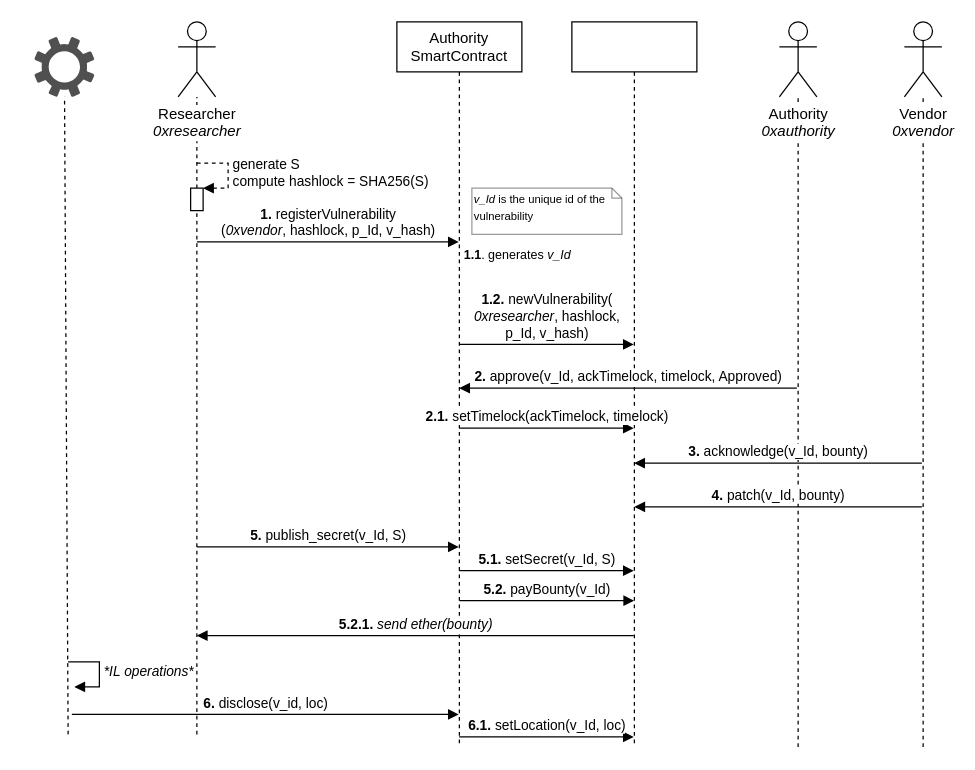
Some shapes in this 975 by 770 pixel diagram are drawn without their labels. Here are the shapes that lost their labels. From the top down, the box of each, then its label:
(34, 36, 94, 96): Interledger 0xinterledger
(571, 21, 697, 747): Vendor SmartContract
